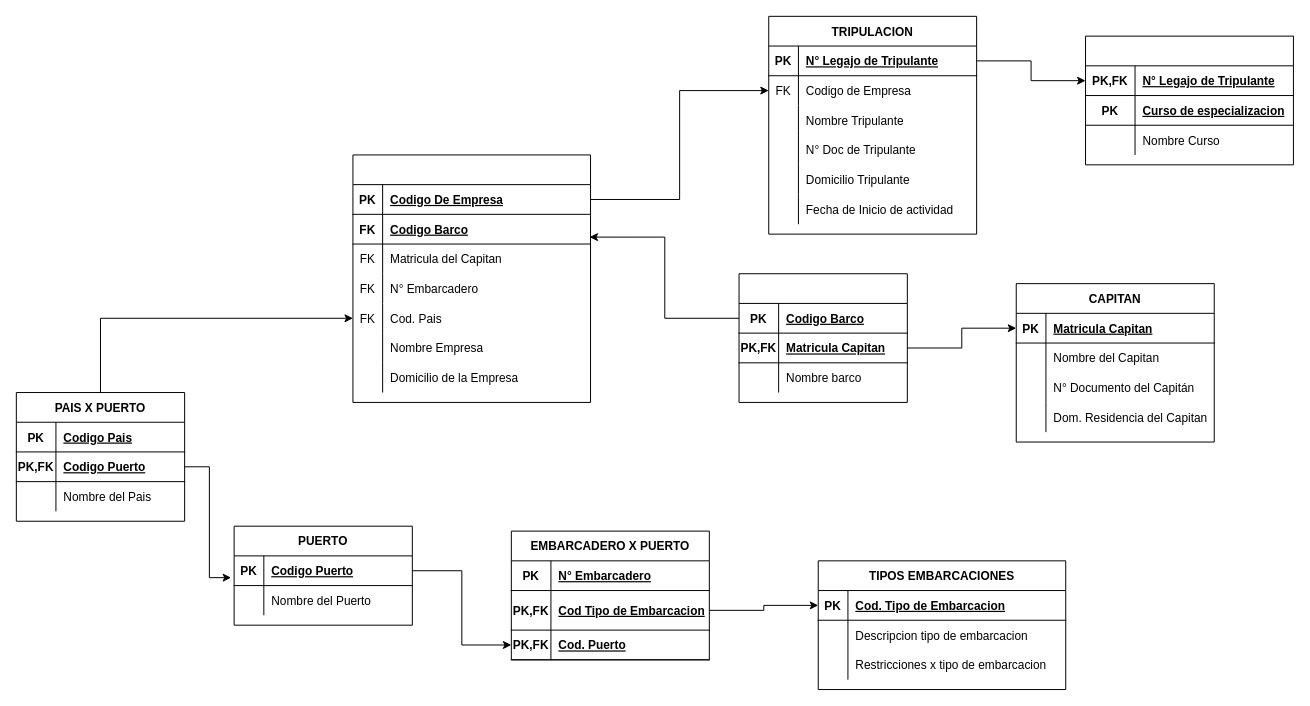
This 1310x706 diagram has some shape labels left out. Each missing label, with the box of its shape:
BARCOS: (352, 154, 591, 402)
BARCOS X CAPITAN: (738, 273, 907, 402)
CURSO X TRIPULANTE: (1085, 35, 1293, 165)
